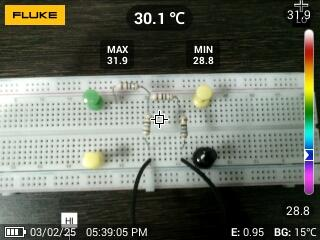resistor: (176, 113, 191, 141), (149, 91, 176, 103), (141, 111, 153, 138), (114, 81, 142, 92)
